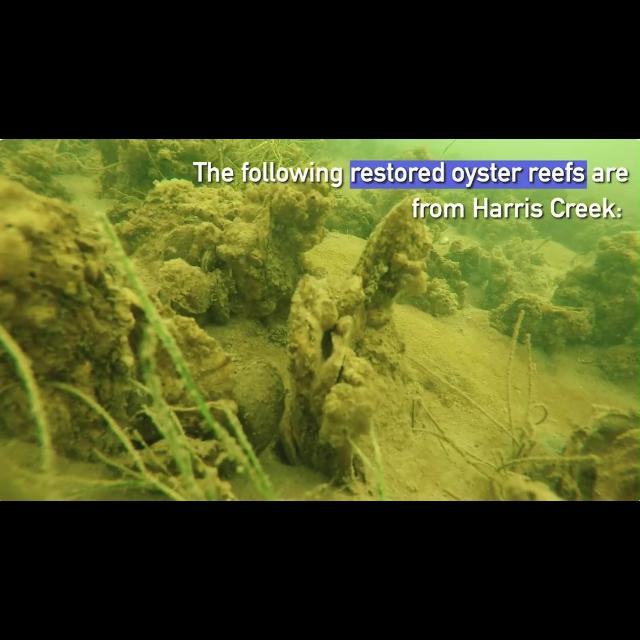Oyster-Closed: (280, 275, 364, 472), (200, 249, 218, 273)
Oyster-Indeterminate: (0, 178, 160, 457), (354, 199, 431, 328), (154, 302, 235, 402), (569, 414, 640, 501), (234, 360, 285, 453), (158, 258, 230, 323), (271, 186, 335, 254), (0, 345, 36, 440), (575, 405, 640, 453), (248, 249, 302, 302), (531, 302, 592, 345), (156, 342, 194, 406), (116, 139, 165, 184), (564, 422, 615, 462), (444, 240, 490, 283), (20, 145, 60, 182), (216, 238, 262, 266)
Oyster-Open: (508, 296, 539, 335)
